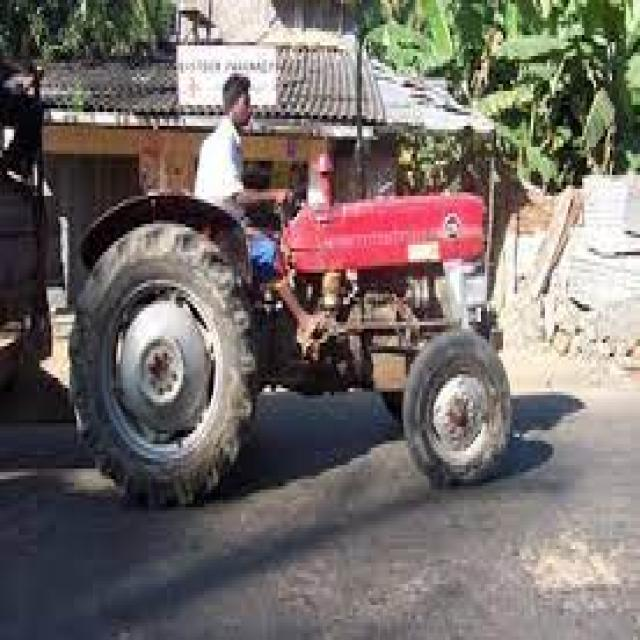person: (195, 73, 325, 357)
tractor: (0, 63, 508, 504)
